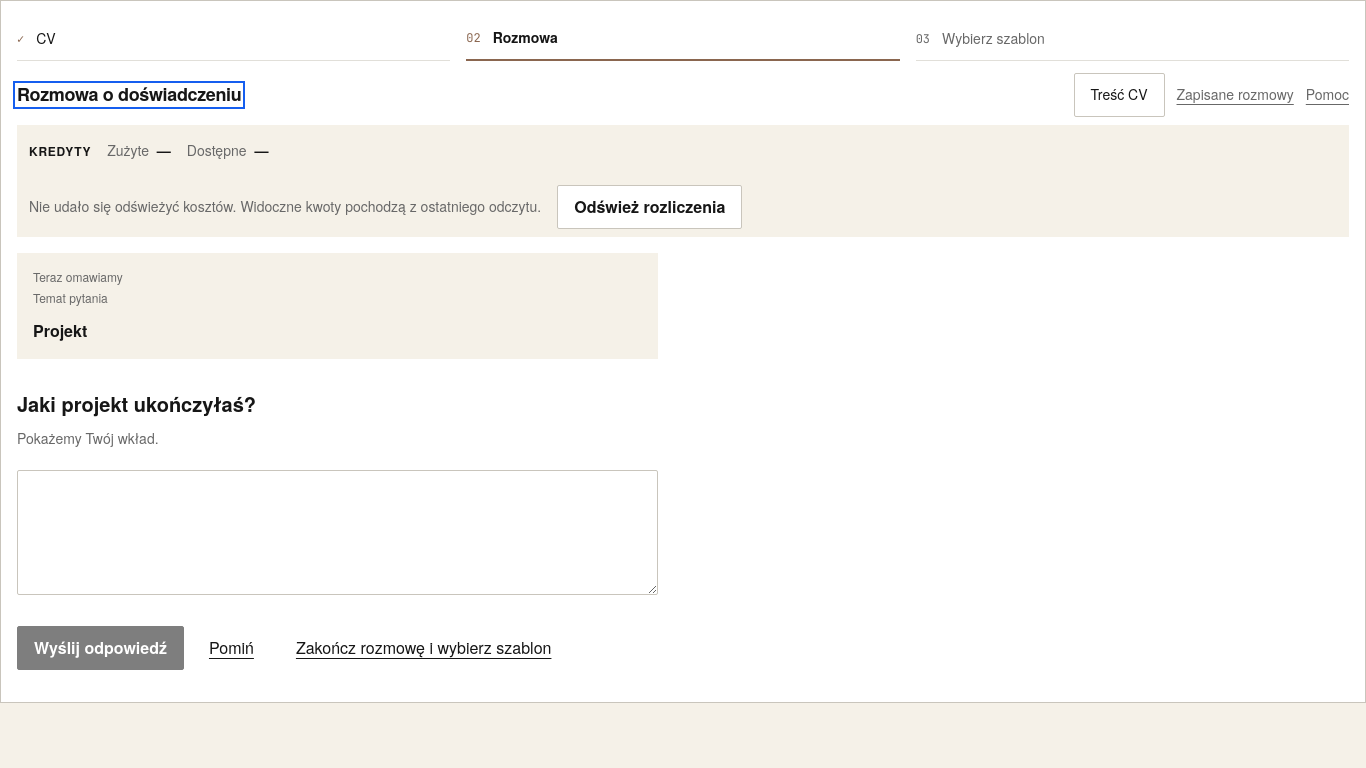
Scenario: interview workflow › saves an answer before requesting another question
Type "Zbudowałam raportowanie." into the text box named "Twoja odpowiedź" at [337, 533], box top-left (17, 470), bottom-right (658, 595)
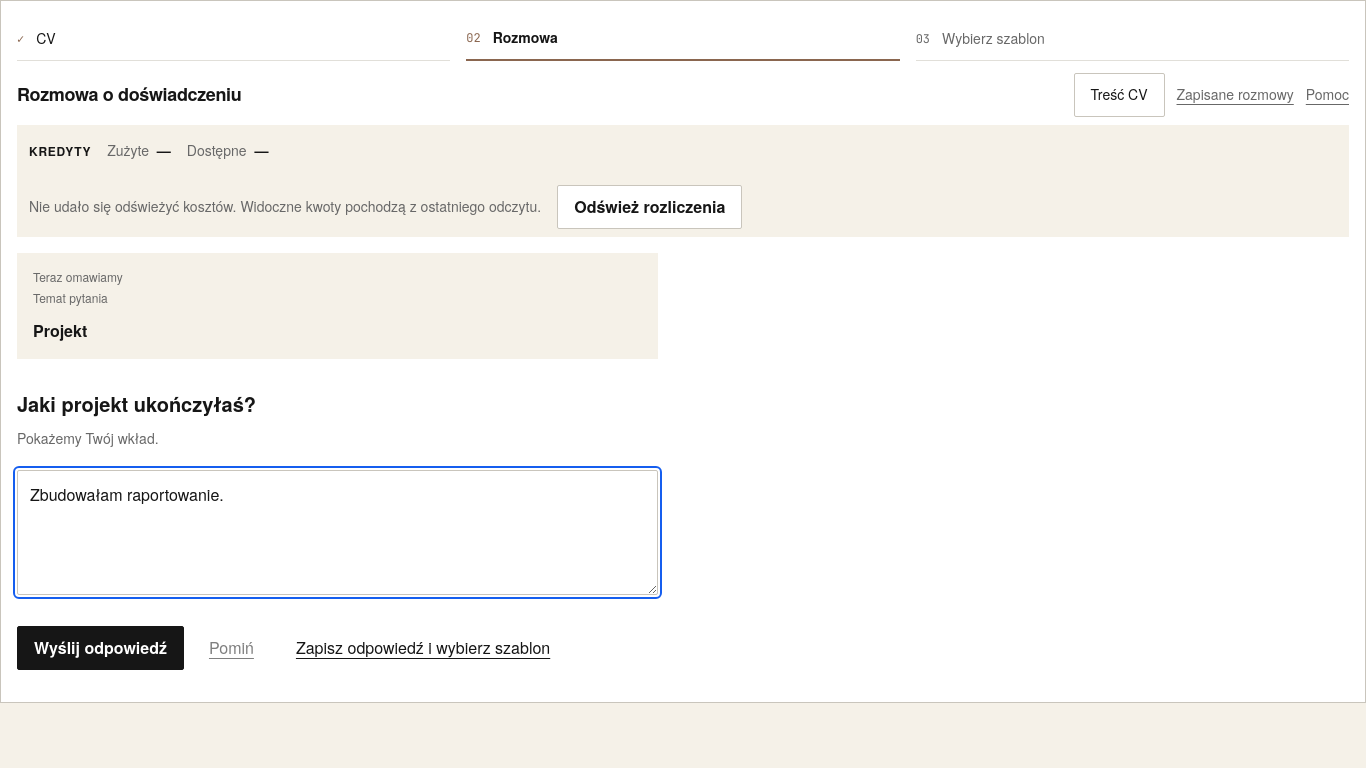
Click the button "Wyślij odpowiedź" at [100, 648], box top-left (17, 626), bottom-right (184, 670)
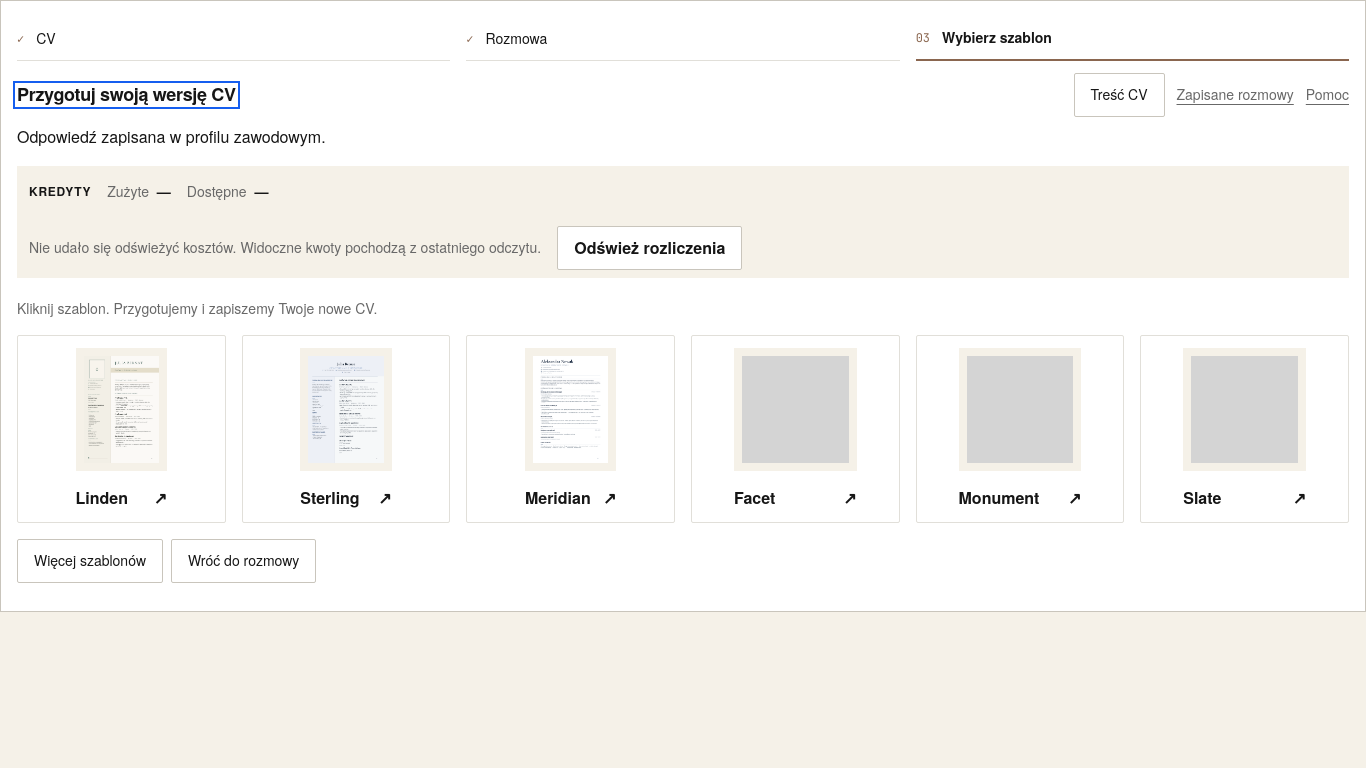
Result: the text "Odpowiedź zapisana w profilu zawodowym." is shown at top-left (17, 125), bottom-right (326, 148)
